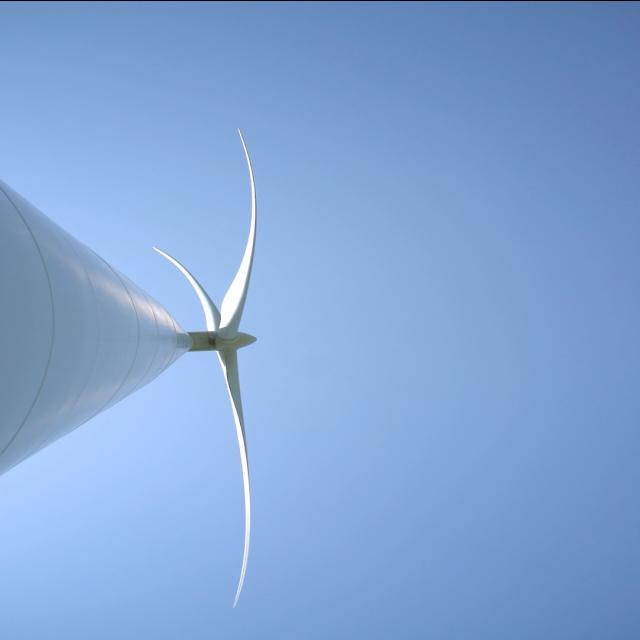blade 1: (218, 42, 258, 306)
blade 2: (149, 238, 207, 298)
blade 3: (213, 362, 286, 612)
